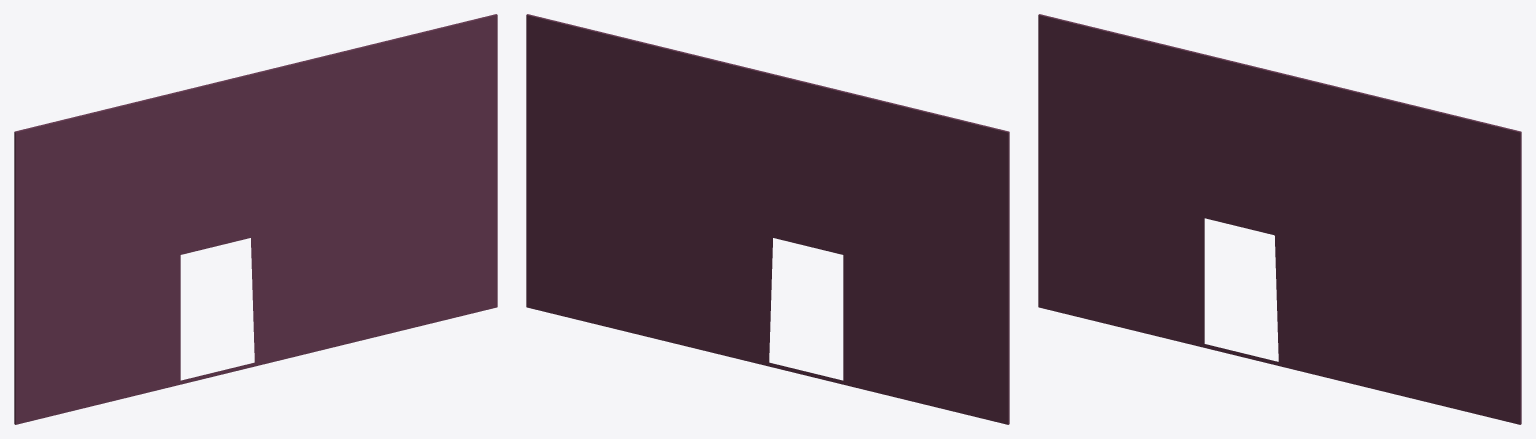
The model's file is Wall4.fbx.
3 views of the same model, side by side, from view 1: azimuth 30°, elevation 25°; view 2: azimuth 150°, elevation 25°; view 3: azimuth 330°, elevation 25° (orthographic).
Parts seen in each view (by area): view 1: Wall2; view 2: Wall2; view 3: Wall2.
Part boxes in pixels (box(x1,y1,x2,y2)): Wall2: box(14, 14, 497, 424); Wall2: box(526, 14, 1009, 424); Wall2: box(1038, 14, 1521, 424).
Bounding box in the file's own units: 537 × 311 × 2.63.
